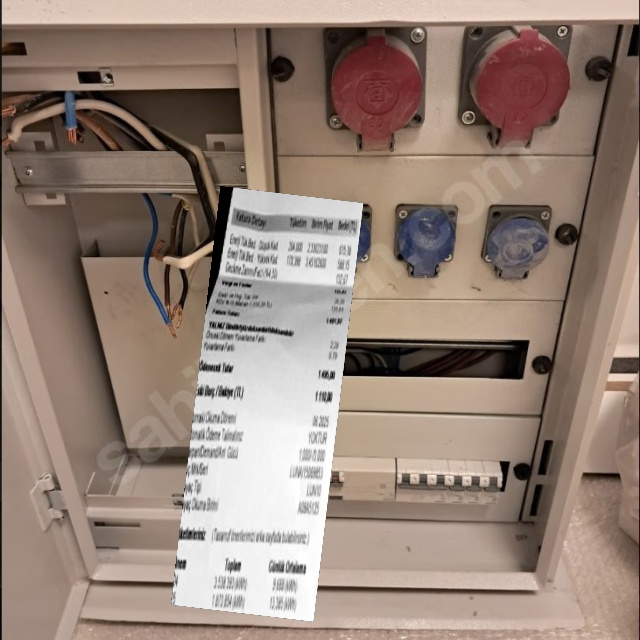electricity-bill: (170, 186, 362, 622)
